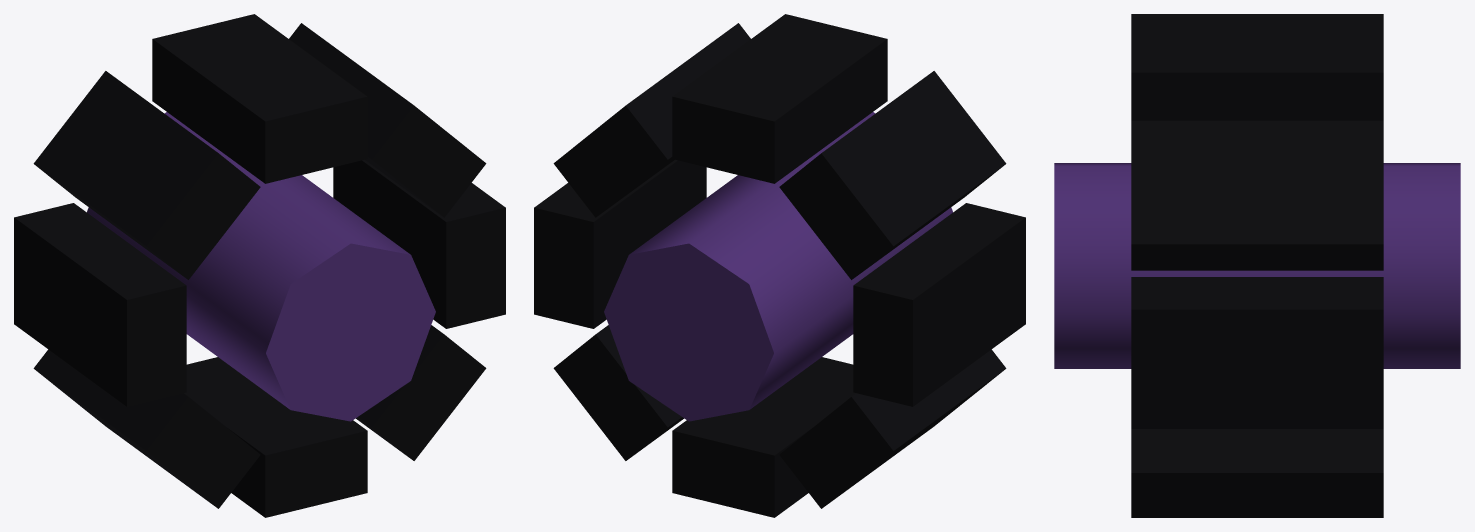
Rendered from h12_field.obj.
3 renders of one model, left to right at view 1: azimuth 30°, elevation 25°; view 2: azimuth 150°, elevation 25°; view 3: azimuth 270°, elevation 25°, orthographic. The views are drawn at different scales.
Parts seen in each view (by area): view 1: h12_field; view 2: h12_field; view 3: h12_field.
Part boxes in pixels (bbox=[...]): h12_field: bbox=[14, 14, 505, 517]; h12_field: bbox=[534, 14, 1025, 517]; h12_field: bbox=[1054, 14, 1460, 517].
Bounding box in the file's own units: 2.83 × 2.83 × 2.35.
